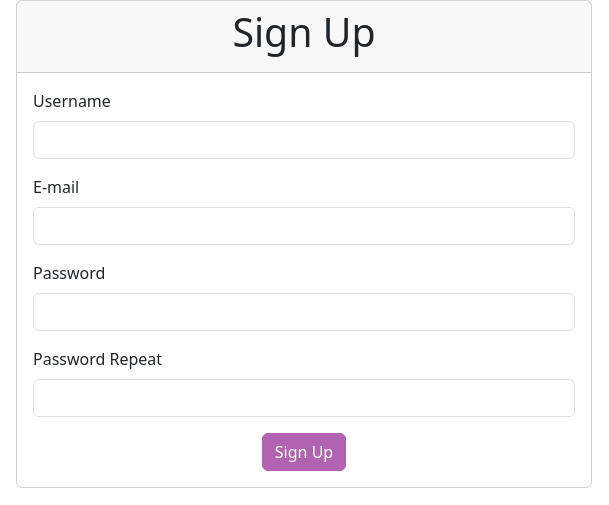
Sign Up › when user sets same value for password inouts › enble button
Type "P@sswr0d" into the password field labelled "Password".
click(304, 312); type("P@sswr0d")  # box top-left (33, 293), bottom-right (575, 331)
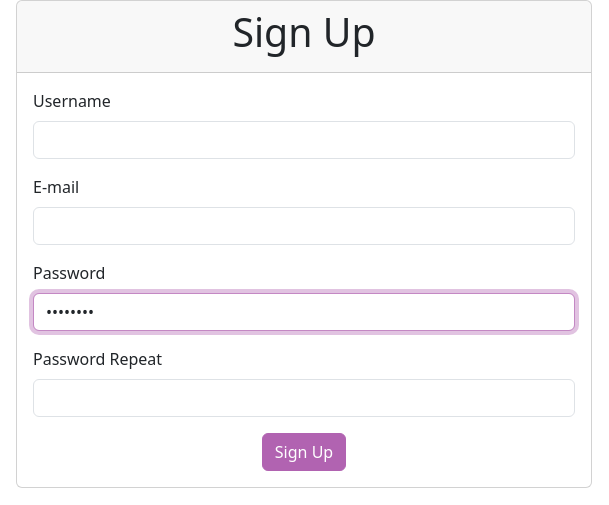
Type "P@sswr0d" into the password field labelled "Password Repeat".
click(304, 398); type("P@sswr0d")  # box top-left (33, 379), bottom-right (575, 417)
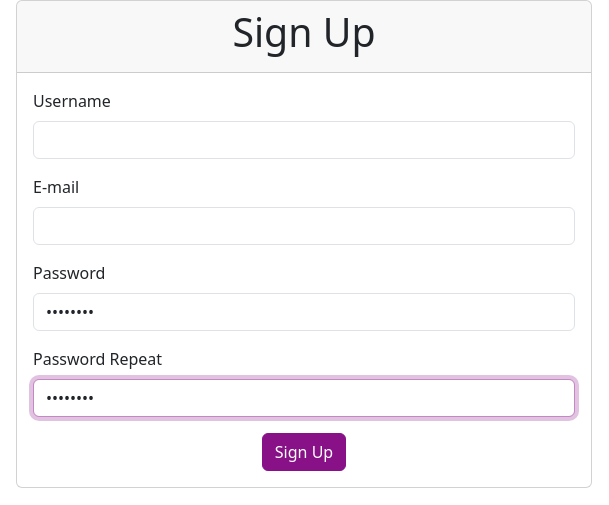
Check: the button "Sign Up" is enabled, box top-left (262, 433), bottom-right (346, 471)
